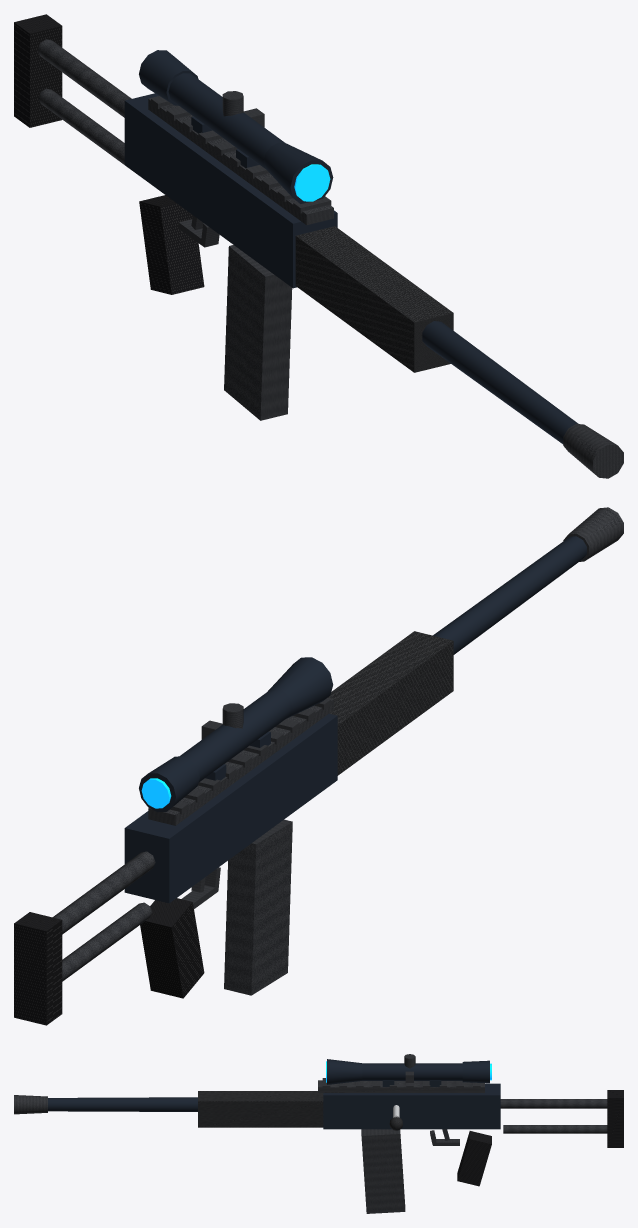
Rendered from parafal.glb.
The picture shows the model from 3 angles, top to bottom: view 1: azimuth 30°, elevation 25°; view 2: azimuth 150°, elevation 25°; view 3: azimuth 270°, elevation 25°; orthographic projection. The views are drawn at different scales.
Visible parts, largest first — view 1: weapon_parafal, MagazineNode; view 2: weapon_parafal, MagazineNode; view 3: weapon_parafal, MagazineNode, BoltHandleNode.
Part boxes in pixels (bbox=[...]): weapon_parafal: bbox=[14, 14, 623, 478]; MagazineNode: bbox=[224, 245, 292, 420]; weapon_parafal: bbox=[14, 507, 623, 1025]; MagazineNode: bbox=[224, 819, 292, 995]; weapon_parafal: bbox=[14, 1054, 623, 1186]; MagazineNode: bbox=[361, 1129, 405, 1213]; BoltHandleNode: bbox=[389, 1105, 402, 1130].
Size of the model in its own units: 0.1175 by 0.3256 by 1.17.
6 materials, 4 textured.
